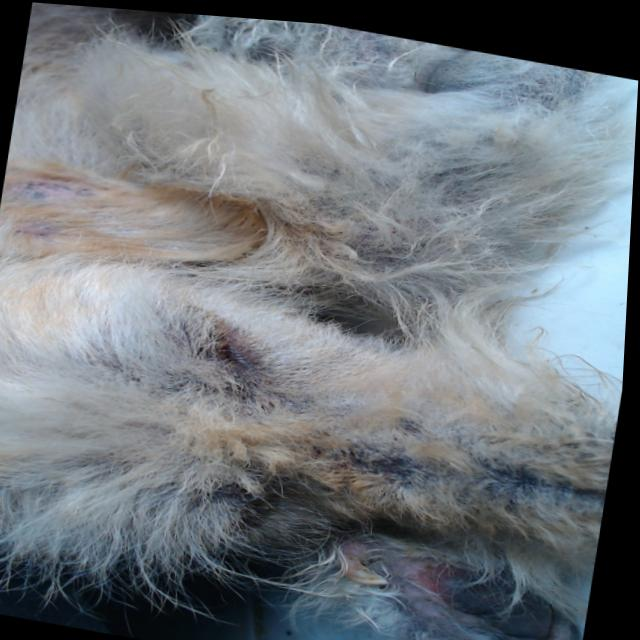demodicosis: (365, 412, 573, 506), (11, 166, 131, 255)
